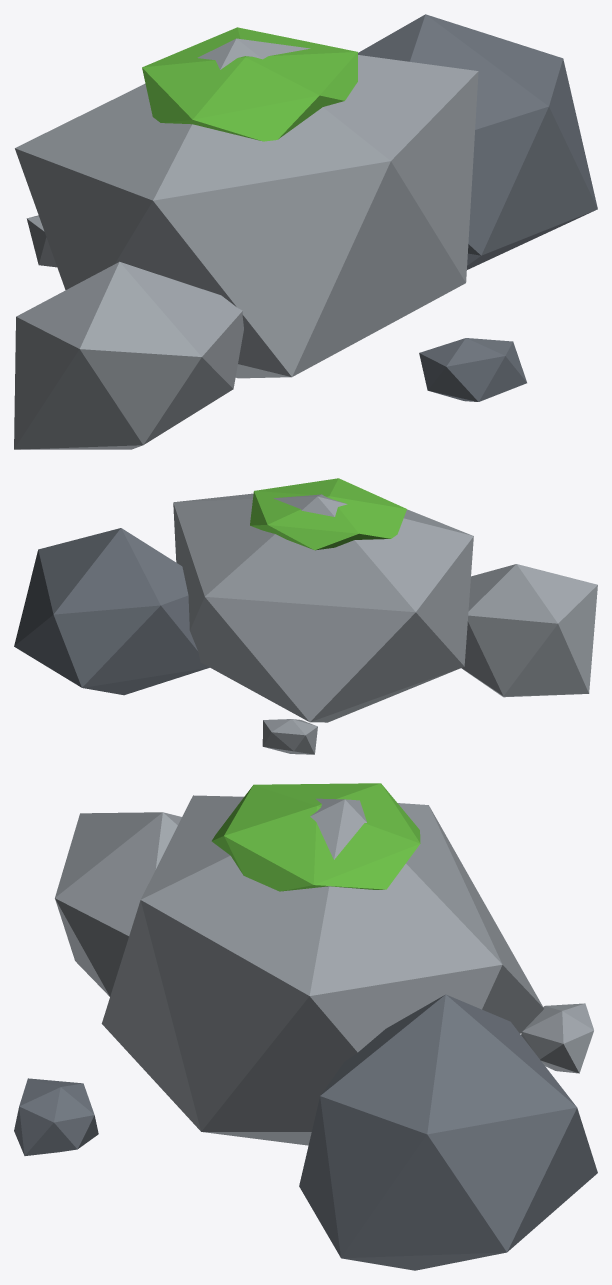
File: Rocks.fbx
3 views of the same model, one above another, from view 1: azimuth 30°, elevation 25°; view 2: azimuth 150°, elevation 25°; view 3: azimuth 270°, elevation 25° (orthographic). The views are drawn at different scales.
Visible parts, largest first — view 1: Rocks; view 2: Rocks; view 3: Rocks.
Part boxes in pixels (x1,y1,x2,y2): Rocks: (14,14,597,449); Rocks: (14,478,597,754); Rocks: (14,783,597,1270).
Bounding box in the file's own units: 6.17 × 2.91 × 4.37.
Materials: 1 (1 with a texture image).
